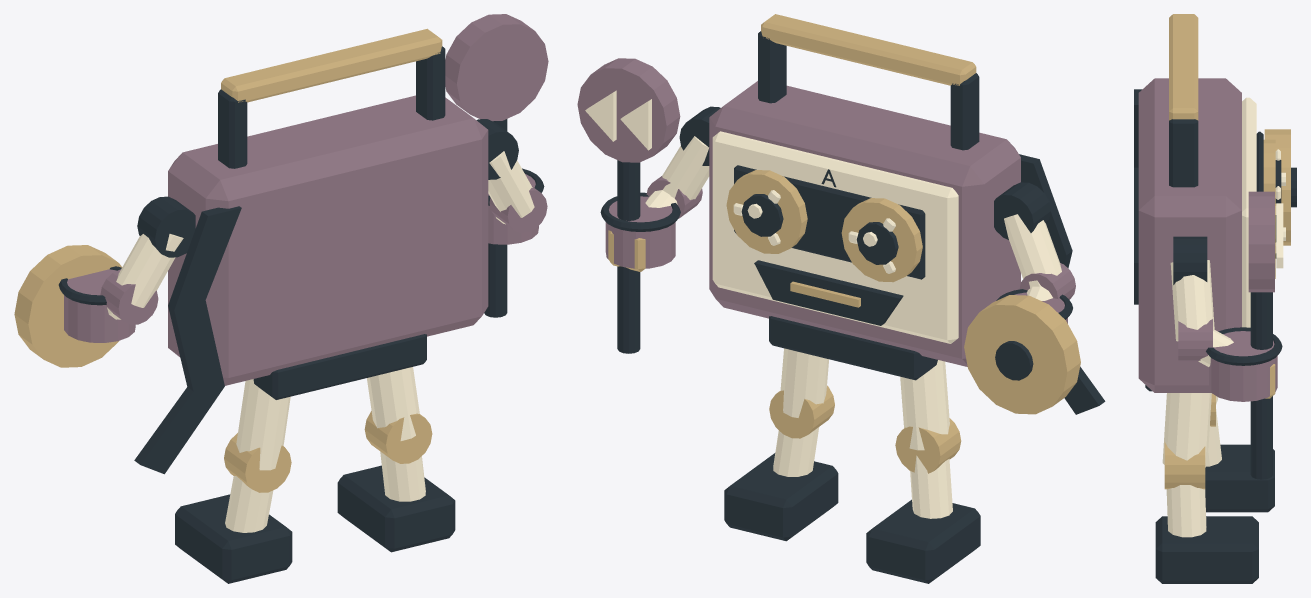
3 renders of one model, left to right at view 1: azimuth 30°, elevation 25°; view 2: azimuth 150°, elevation 25°; view 3: azimuth 270°, elevation 25°, orthographic. The views are drawn at different scales.
Visible parts, largest first — view 1: cassette_shell, folded_tape_scarf, rewind_baton_head, recovery_spool, L_shoe, R_shoe, carry_handle_grip, cassette_waist, L_thigh, L_spool_cuff, R_thigh, L_upper_arm (+13 smaller); view 2: cassette_shell, cassette_face_plate, recovery_spool, L_shoe, R_shoe, rewind_baton_head, carry_handle_grip, cassette_waist, tape_window, tape_slot_smile, L_tape_reel, R_tape_reel (+23 smaller); view 3: cassette_shell, R_shoe, L_shoe, carry_handle_grip, rewind_baton, R_spool_cuff, R_thigh, rewind_baton_head, cassette_face_plate, R_upper_arm, R_handle_upright, R_shin (+13 smaller).
Boxes of the visible parts, bbox=[...] form: cassette_shell: bbox=[168, 95, 488, 385]; folded_tape_scarf: bbox=[134, 206, 241, 474]; rewind_baton_head: bbox=[445, 14, 548, 121]; recovery_spool: bbox=[14, 245, 122, 367]; L_shoe: bbox=[175, 494, 292, 583]; R_shoe: bbox=[337, 465, 455, 552]; carry_handle_grip: bbox=[221, 28, 442, 102]; cassette_waist: bbox=[253, 334, 426, 399]; L_thigh: bbox=[236, 379, 290, 470]; L_spool_cuff: bbox=[64, 269, 135, 342]; R_thigh: bbox=[367, 367, 419, 440]; L_upper_arm: bbox=[116, 234, 183, 307]; cassette_shell: bbox=[709, 81, 1020, 366]; cassette_face_plate: bbox=[712, 131, 958, 343]; recovery_spool: bbox=[964, 295, 1080, 414]; L_shoe: bbox=[866, 499, 980, 583]; R_shoe: bbox=[724, 453, 838, 541]; rewind_baton_head: bbox=[577, 58, 680, 162]; carry_handle_grip: bbox=[761, 14, 976, 85]; cassette_waist: bbox=[769, 316, 937, 380]; tape_window: bbox=[734, 165, 925, 279]; tape_slot_smile: bbox=[754, 260, 903, 325]; L_tape_reel: bbox=[841, 198, 922, 282]; R_tape_reel: bbox=[726, 170, 807, 253]; cassette_shell: bbox=[1138, 78, 1241, 392]; R_shoe: bbox=[1155, 516, 1258, 583]; L_shoe: bbox=[1205, 444, 1274, 512]; carry_handle_grip: bbox=[1169, 14, 1198, 120]; rewind_baton: bbox=[1250, 292, 1272, 479]; R_spool_cuff: bbox=[1209, 331, 1277, 401]; R_thigh: bbox=[1162, 393, 1211, 467]; rewind_baton_head: bbox=[1248, 191, 1274, 292]; cassette_face_plate: bbox=[1242, 97, 1256, 327]; R_upper_arm: bbox=[1170, 260, 1214, 341]; R_handle_upright: bbox=[1169, 119, 1198, 187]; R_shin: bbox=[1166, 485, 1206, 537].
Size of the model in its own units: 2.12 by 1.97 by 0.615.
